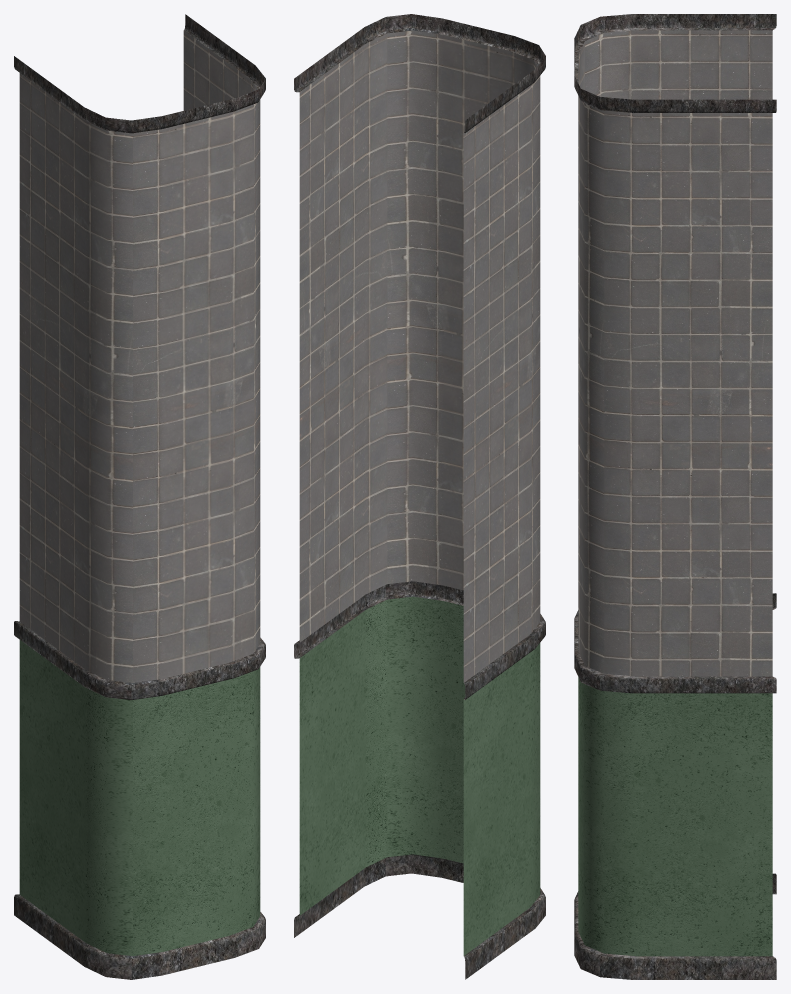
The model's file is Room1_WallColumn.FBX.
3 views of the same model, side by side, from view 1: azimuth 30°, elevation 25°; view 2: azimuth 150°, elevation 25°; view 3: azimuth 270°, elevation 25° (orthographic). The views are drawn at different scales.
Visible parts, largest first — view 1: Room1_WallColumn; view 2: Room1_WallColumn; view 3: Room1_WallColumn.
Part boxes in pixels (<box>): Room1_WallColumn: <box>14,14,265,979</box>; Room1_WallColumn: <box>294,14,545,979</box>; Room1_WallColumn: <box>574,14,776,979</box>.
Bounding box in the file's own units: 20.52 × 98.43 × 20.52.
